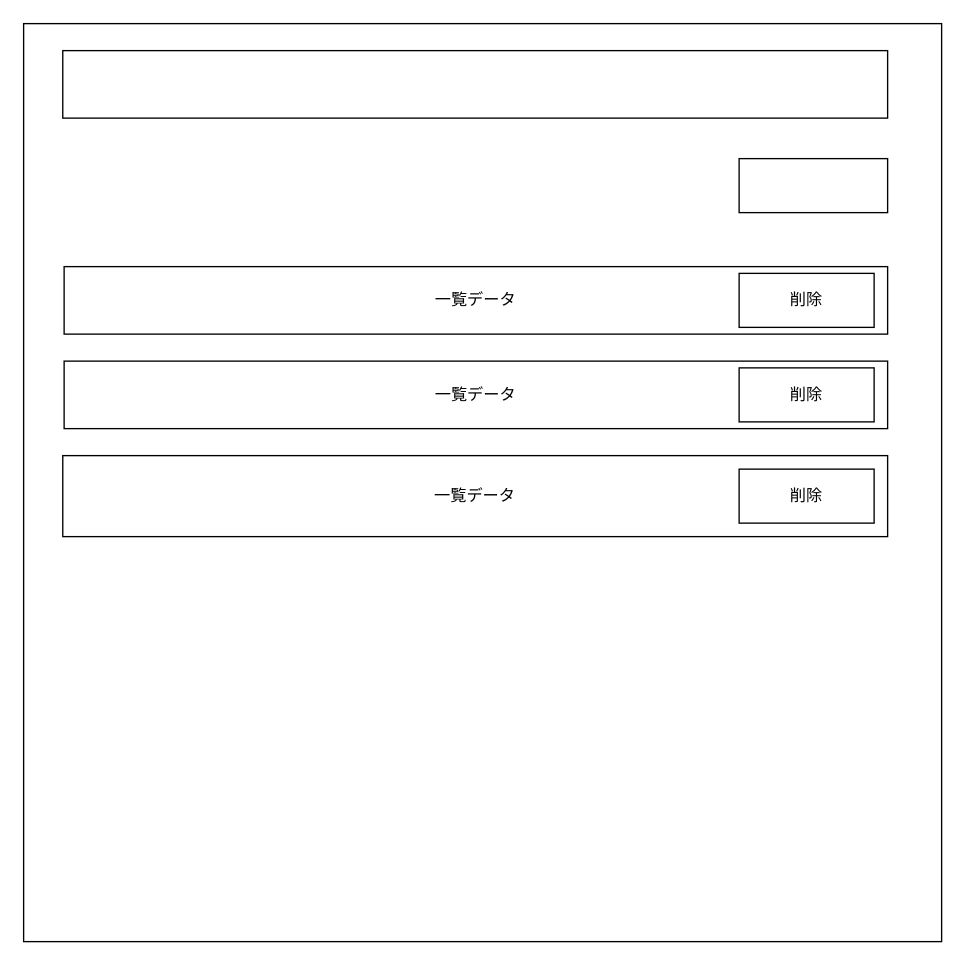
Image size: 965x965. Some labels were removed from this diagram. Here are the shapes that lost their labels. From the top down, the box of each, then its label:
(61, 49, 888, 118): タイトル
(738, 157, 888, 213): 新規作成
